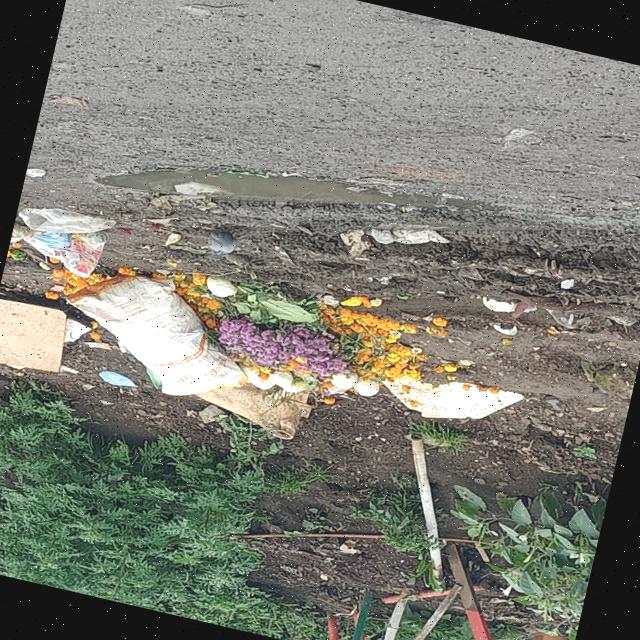garbage: (0, 209, 537, 488)
